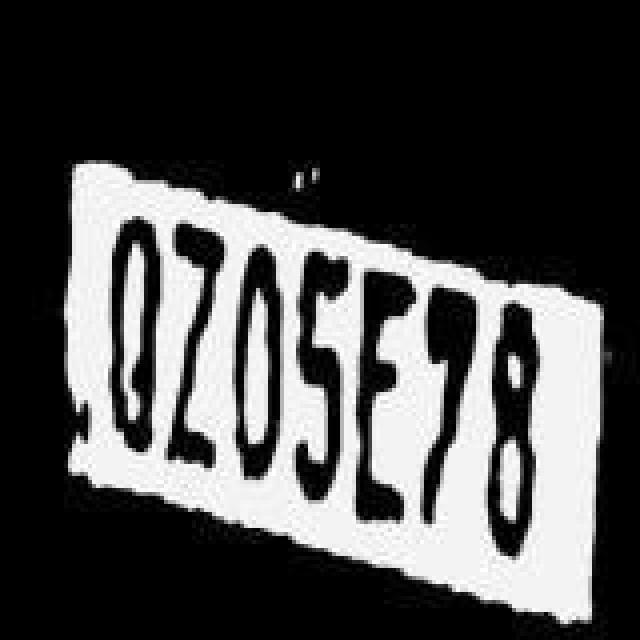5: (292, 238, 356, 514)
7: (420, 266, 476, 534)
8: (486, 292, 554, 572)
E: (352, 266, 416, 534)
O: (226, 238, 294, 490)
Q: (108, 214, 164, 458)
Z: (164, 218, 220, 478)
